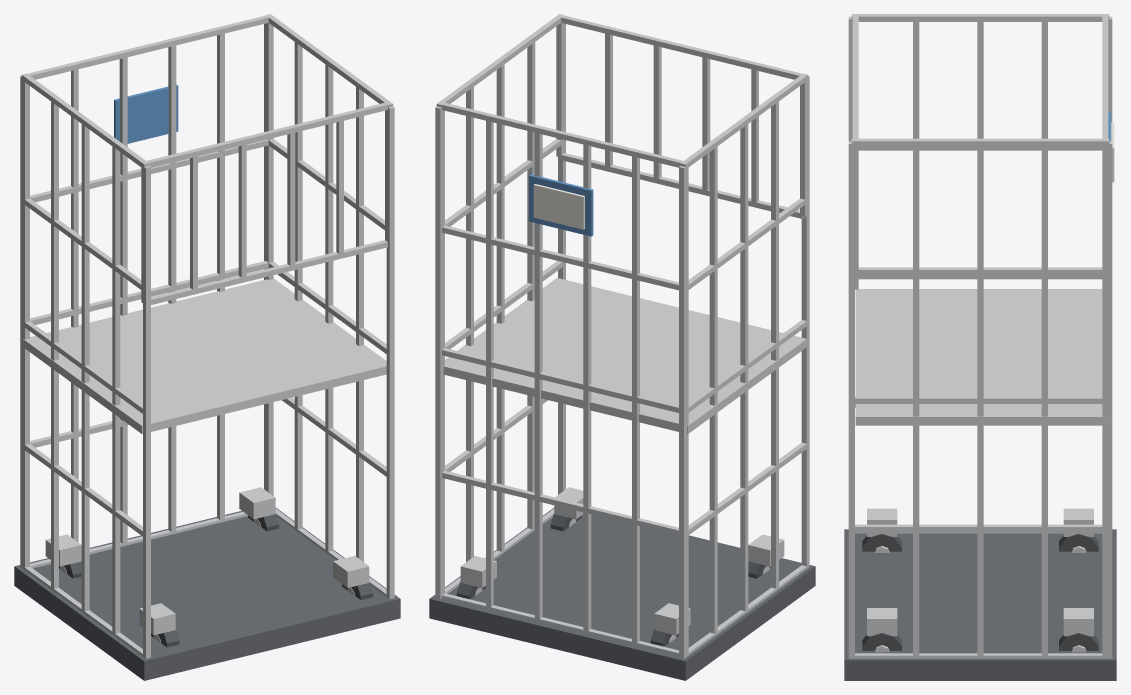
The model's file is parcel-cage-empty.glb.
3 renders of one model, left to right at view 1: azimuth 30°, elevation 25°; view 2: azimuth 150°, elevation 25°; view 3: azimuth 270°, elevation 25°, orthographic. The views are drawn at different scales.
Visible parts, largest first — view 1: parcel-depot-and-sorting-hall-parcel-cage-empty; view 2: parcel-depot-and-sorting-hall-parcel-cage-empty; view 3: parcel-depot-and-sorting-hall-parcel-cage-empty.
Part boxes in pixels (box(x1,y1,x2,y2)): parcel-depot-and-sorting-hall-parcel-cage-empty: box(14, 14, 400, 680); parcel-depot-and-sorting-hall-parcel-cage-empty: box(429, 14, 815, 680); parcel-depot-and-sorting-hall-parcel-cage-empty: box(844, 14, 1116, 680).
Bounding box in the file's own units: 0.82 × 1.57 × 0.72.
